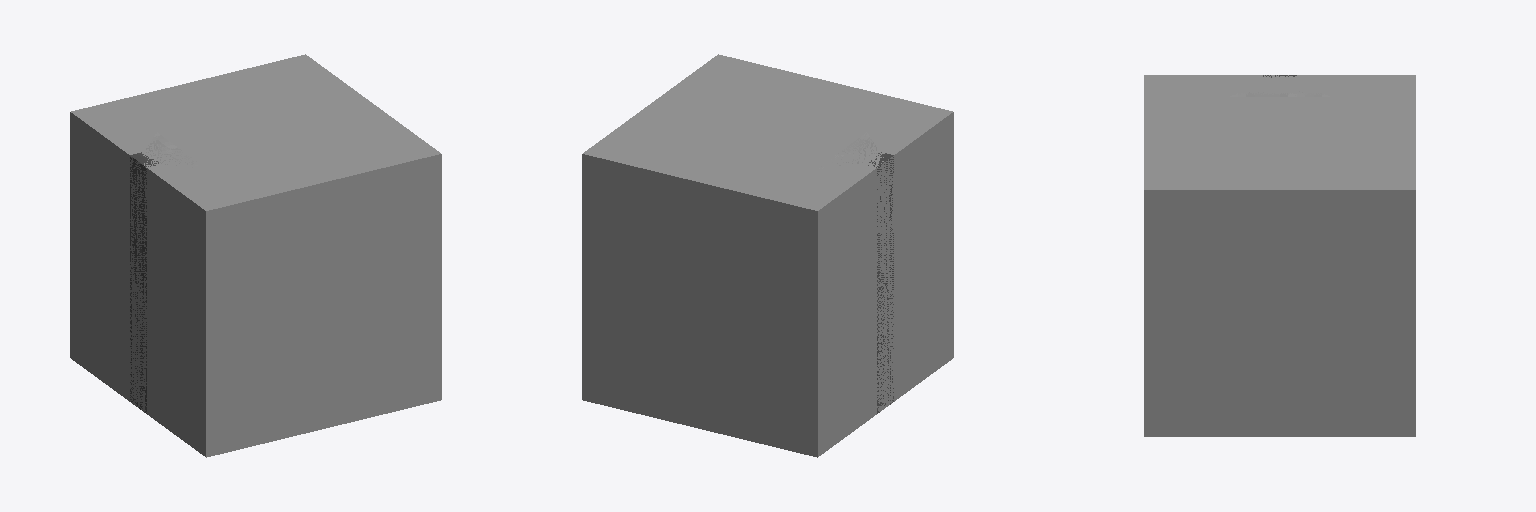
3 renders of one model, left to right at view 1: azimuth 30°, elevation 25°; view 2: azimuth 150°, elevation 25°; view 3: azimuth 270°, elevation 25°, orthographic.
Visible parts, largest first — view 1: Minecraft_Block_Cube, Minecraft_2_Edge_Connectivity_Cube.002, socket_unlightable; view 2: Minecraft_Block_Cube, Minecraft_2_Edge_Connectivity_Cube.002, socket_unlightable; view 3: Minecraft_Block_Cube, Minecraft_2_Edge_Connectivity_Cube.002.
Part boxes in pixels (x1,y1,x2,y2): Minecraft_Block_Cube: (71,54,441,457); Minecraft_2_Edge_Connectivity_Cube.002: (70,112,254,456); socket_unlightable: (130,132,197,413); Minecraft_Block_Cube: (582,54,952,457); Minecraft_2_Edge_Connectivity_Cube.002: (768,112,953,456); socket_unlightable: (819,132,893,413); Minecraft_Block_Cube: (1144,75,1415,436); Minecraft_2_Edge_Connectivity_Cube.002: (1146,75,1414,132).
Size of the model in its own units: 1 by 1 by 1.
2 materials, 1 textured.